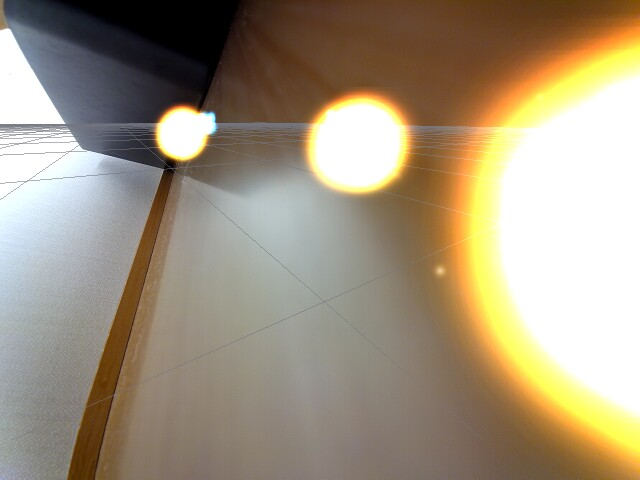firebig: (455, 14, 640, 471)
